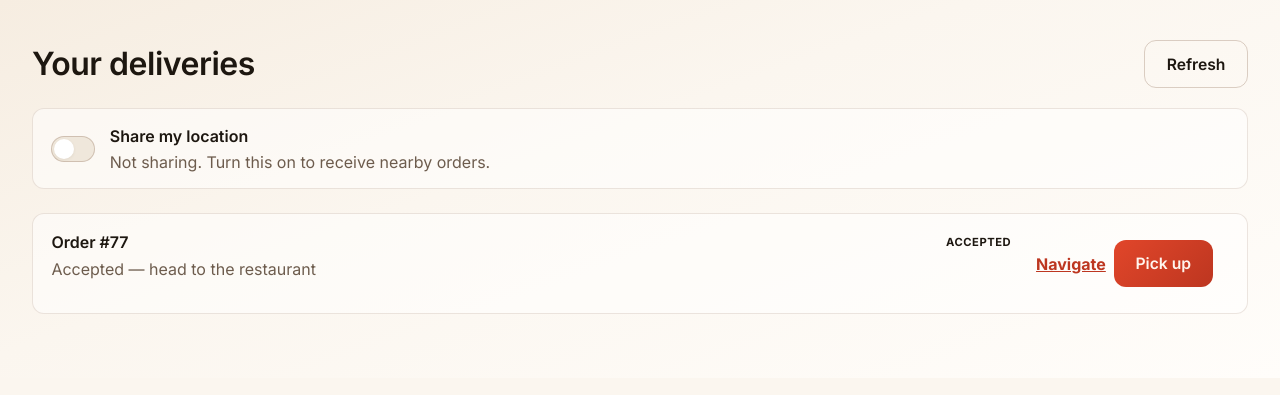
Scenario: DriverPage location sharing › turning it on marks the driver online
Step 1. Click the switch named "share my location" → (73, 149), box [51, 136, 95, 162]
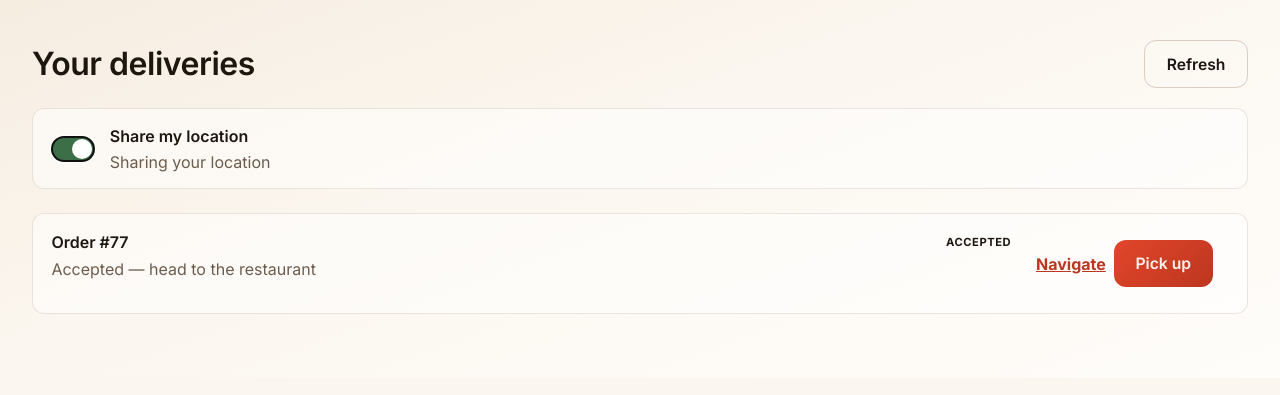
Check: the text "Sharing your location" is shown, box [110, 150, 270, 174]
